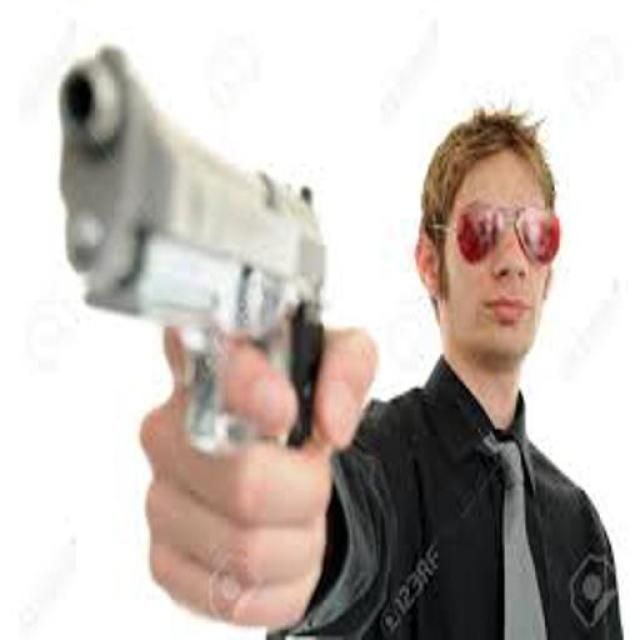pistol: (64, 26, 320, 455)
